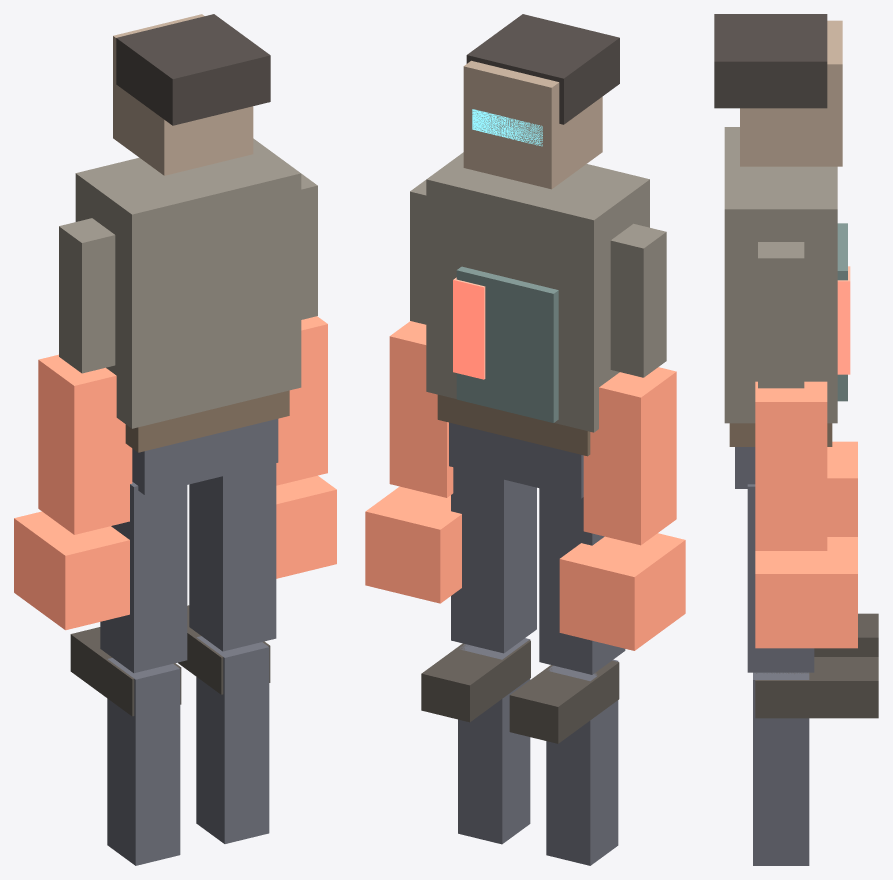
File: he_blockout.glb
3 renders of one model, left to right at view 1: azimuth 30°, elevation 25°; view 2: azimuth 150°, elevation 25°; view 3: azimuth 270°, elevation 25°, orthographic.
Visible parts, largest first — view 1: TorsoMesh, R_ThighMesh, L_ForearmMesh, L_ShinMesh, R_ShinMesh, Hair, L_ThighMesh, L_FistMesh, L_UpperArmMesh, HeadMesh, HipsMesh, R_ForearmMesh (+5 smaller); view 2: TorsoMesh, L_ForearmMesh, R_ThighMesh, HeadMesh, L_FistMesh, ShirtFront, L_ShinMesh, R_FistMesh, R_ShinMesh, Hair, R_ForearmMesh, L_UpperArmMesh (+8 smaller); view 3: TorsoMesh, R_ForearmMesh, Hair, R_FistMesh, R_ShinMesh, HeadMesh, R_UpperArmMesh, R_Foot, R_ThighMesh, L_FistMesh, ChestMark, L_Foot (+3 smaller).
Part boxes in pixels (x1,y1,x2,y2): TorsoMesh: (75,138,301,428); R_ThighMesh: (189,463,276,651); L_ForearmMesh: (38,354,132,534); L_ShinMesh: (107,658,180,865); R_ShinMesh: (196,636,269,843); Hair: (116,14,270,125); L_ThighMesh: (100,482,187,673); L_FistMesh: (14,511,129,630); L_UpperArmMesh: (59,218,115,373); HeadMesh: (113,14,253,175); HipsMesh: (132,418,278,494); R_ForearmMesh: (276,316,327,485); TorsoMesh: (426,152,649,432); L_ForearmMesh: (583,367,676,545); R_ThighMesh: (451,467,536,653); HeadMesh: (463,60,602,189); L_FistMesh: (559,533,685,650); ShirtFront: (456,266,558,422); L_ShinMesh: (546,659,618,865); R_FistMesh: (365,486,461,603); R_ShinMesh: (458,638,530,844); Hair: (466,14,619,124); R_ForearmMesh: (389,321,453,497); L_UpperArmMesh: (610,223,666,377); TorsoMesh: (724,127,837,423); R_ForearmMesh: (755,381,827,550); Hair: (714,14,827,108); R_FistMesh: (755,537,857,648); R_ShinMesh: (753,672,809,865); HeadMesh: (740,20,842,166); R_UpperArmMesh: (758,242,804,388); R_Foot: (755,657,878,718); R_ThighMesh: (747,484,814,672); L_FistMesh: (827,441,857,536); ChestMark: (837,266,850,374); L_Foot: (814,613,878,656).
Size of the model in its own units: 0.61 by 1.71 by 0.32.
